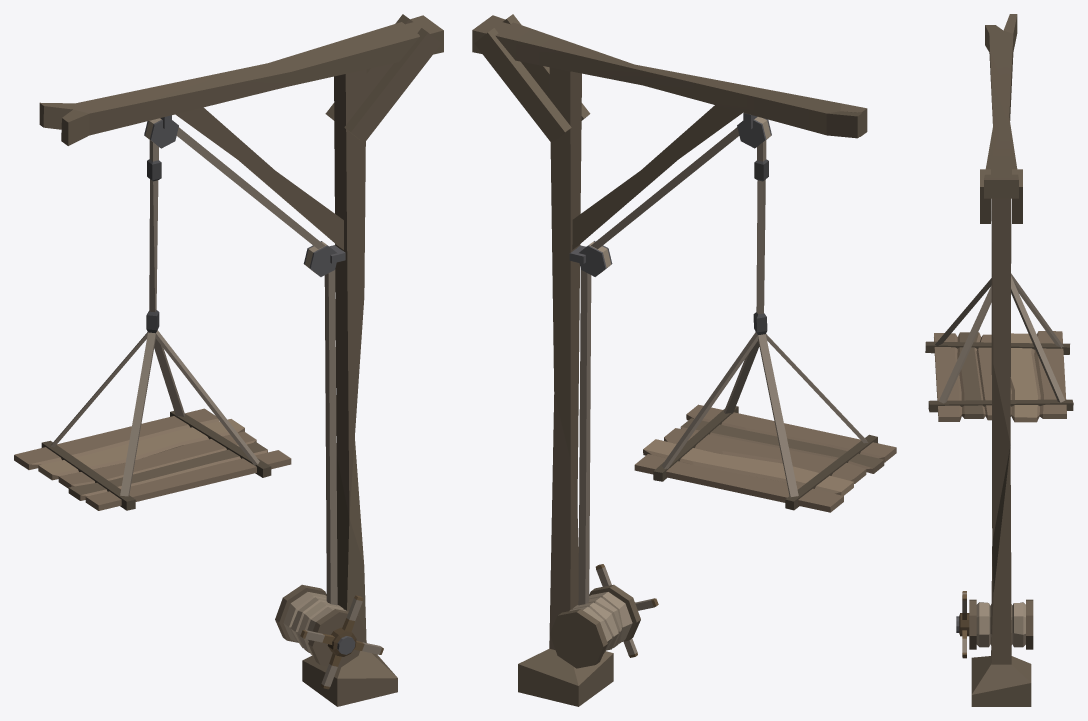
The model's file is SM_Prop_Crane_02.glb.
The picture shows the model from 3 angles, left to right: view 1: azimuth 30°, elevation 25°; view 2: azimuth 150°, elevation 25°; view 3: azimuth 270°, elevation 25°; orthographic projection. The views are drawn at different scales.
Parts seen in each view (by area): view 1: SM_Prop_Crane_02; view 2: SM_Prop_Crane_02; view 3: SM_Prop_Crane_02.
Part boxes in pixels (x1,y1,x2,y2): SM_Prop_Crane_02: (14,14,443,706); SM_Prop_Crane_02: (472,14,896,706); SM_Prop_Crane_02: (925,14,1073,706).
Bounding box in the file's own units: 0.0451 × 0.0729 × 0.0176.
1 material, 1 textured.
